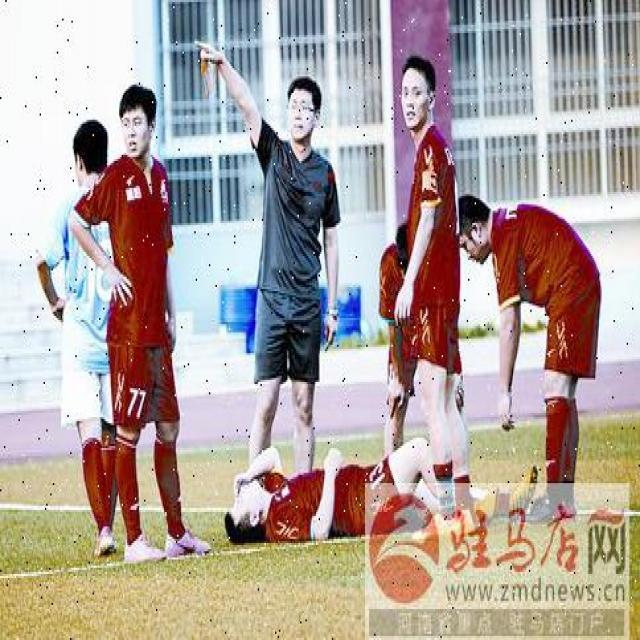fall: (222, 444, 526, 539)
